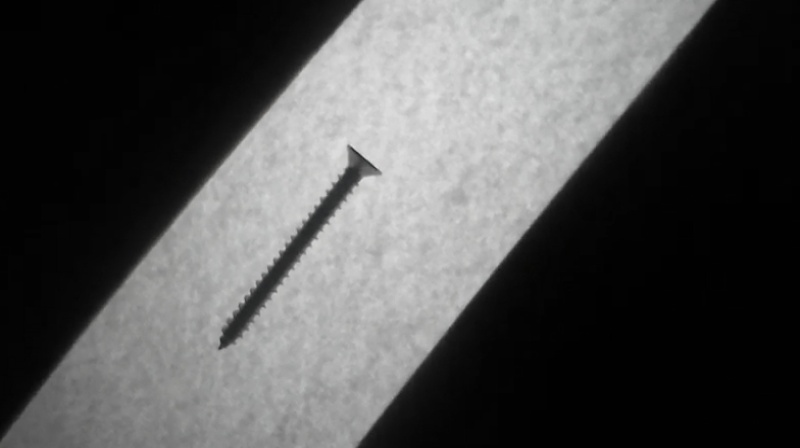S002: (211, 141, 386, 355)
